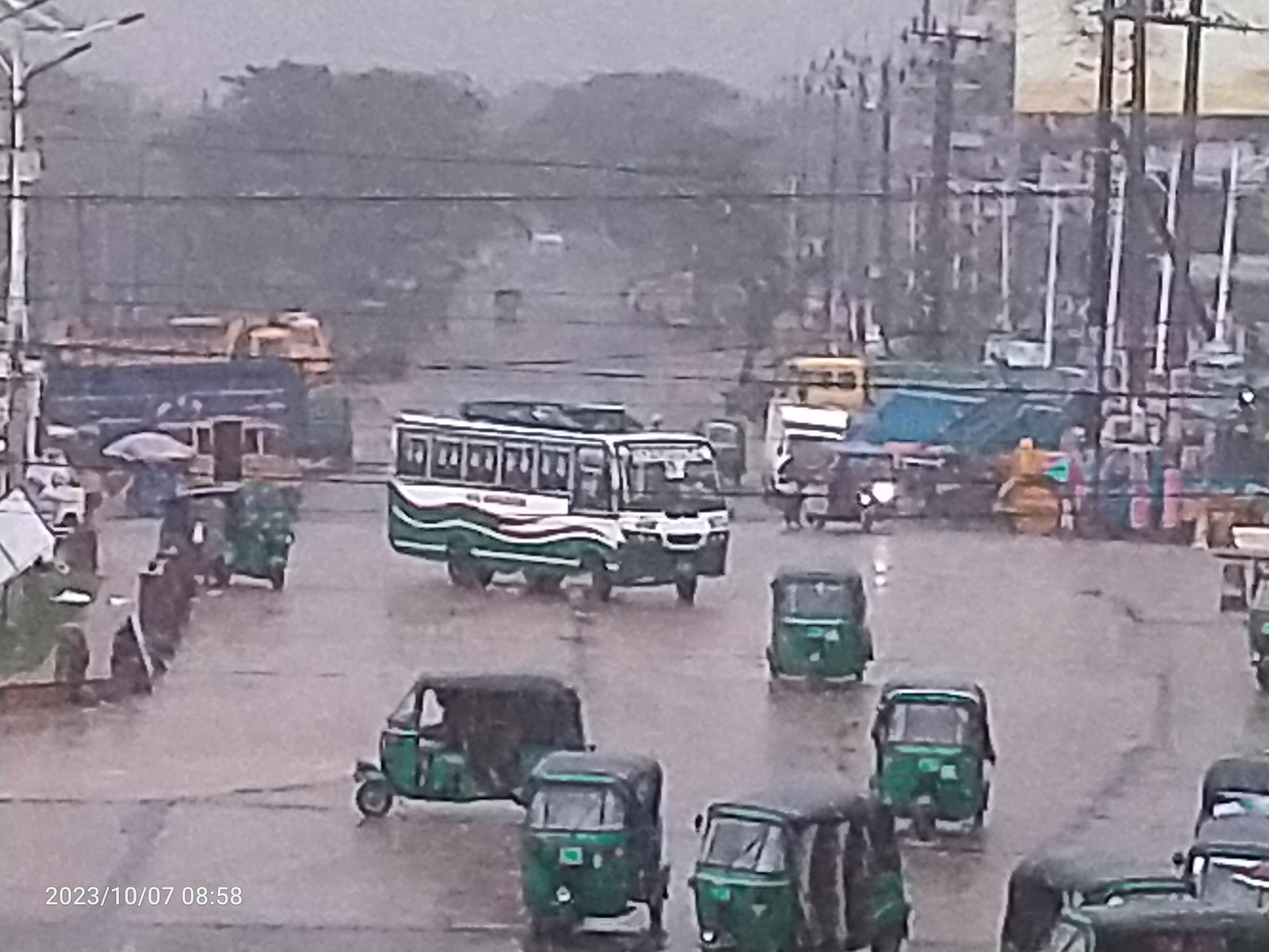Bus: (355, 385, 755, 624)
